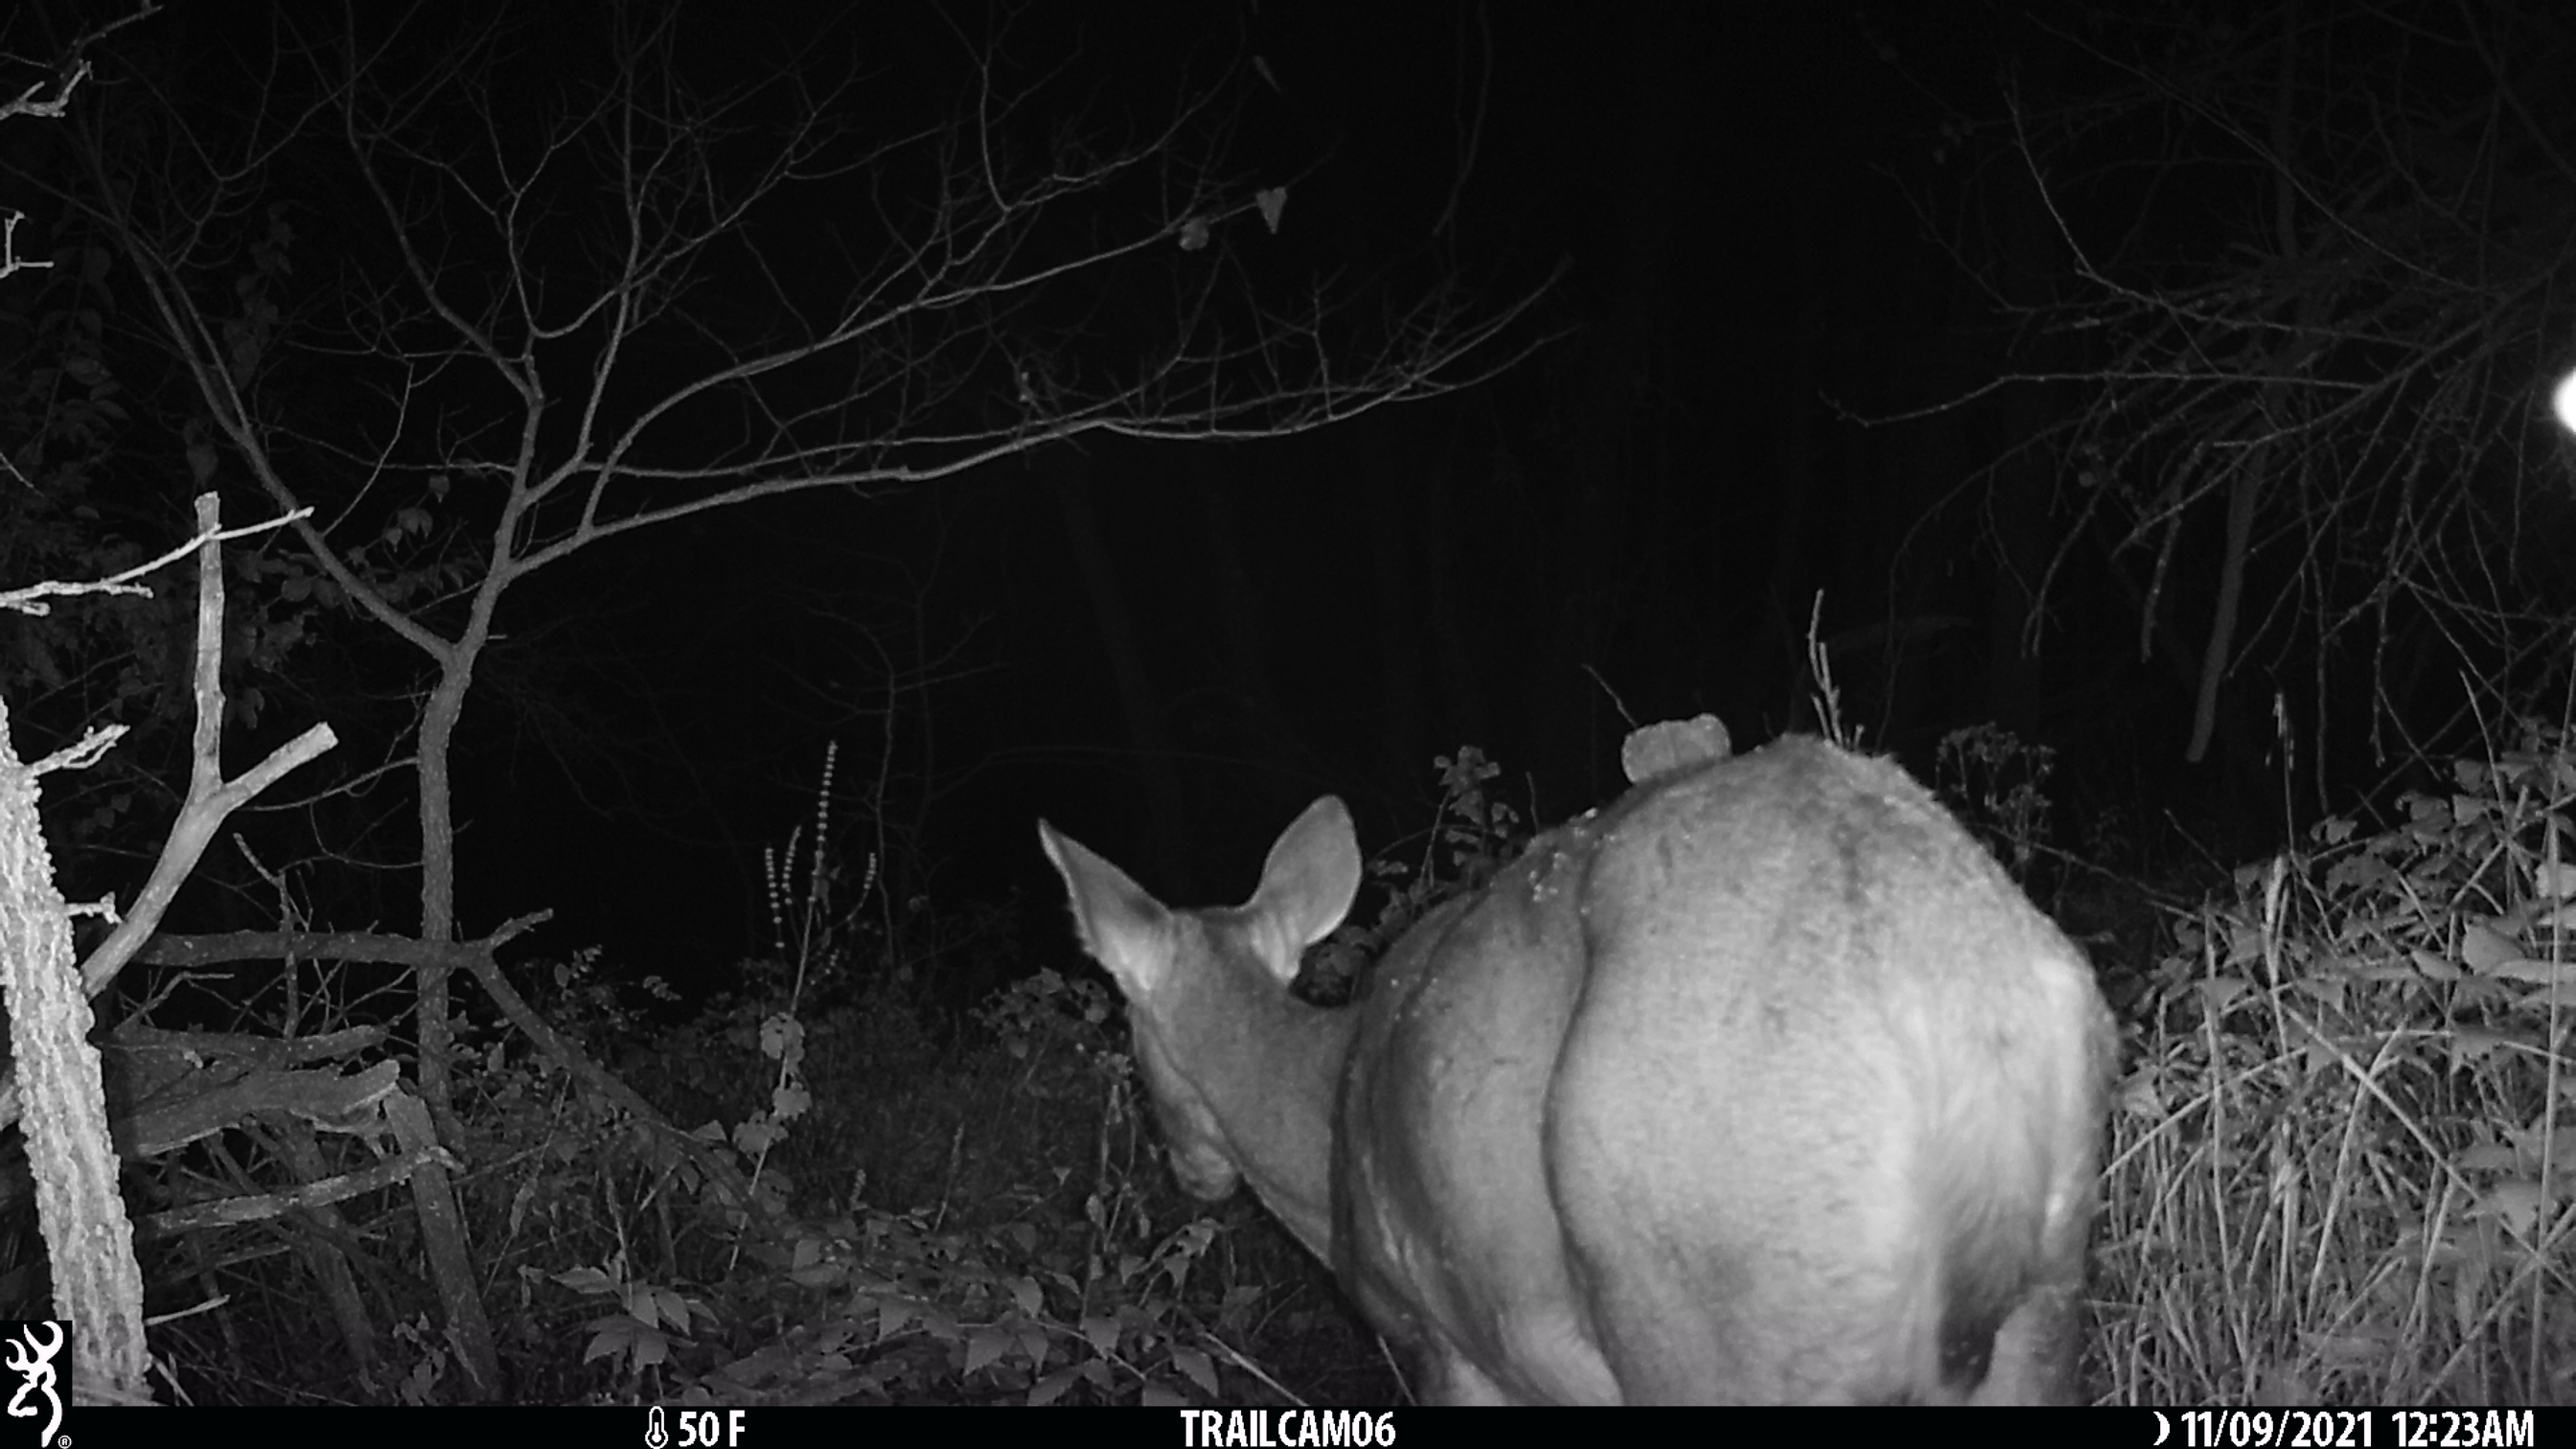Deer: (1035, 729, 2128, 1405)
